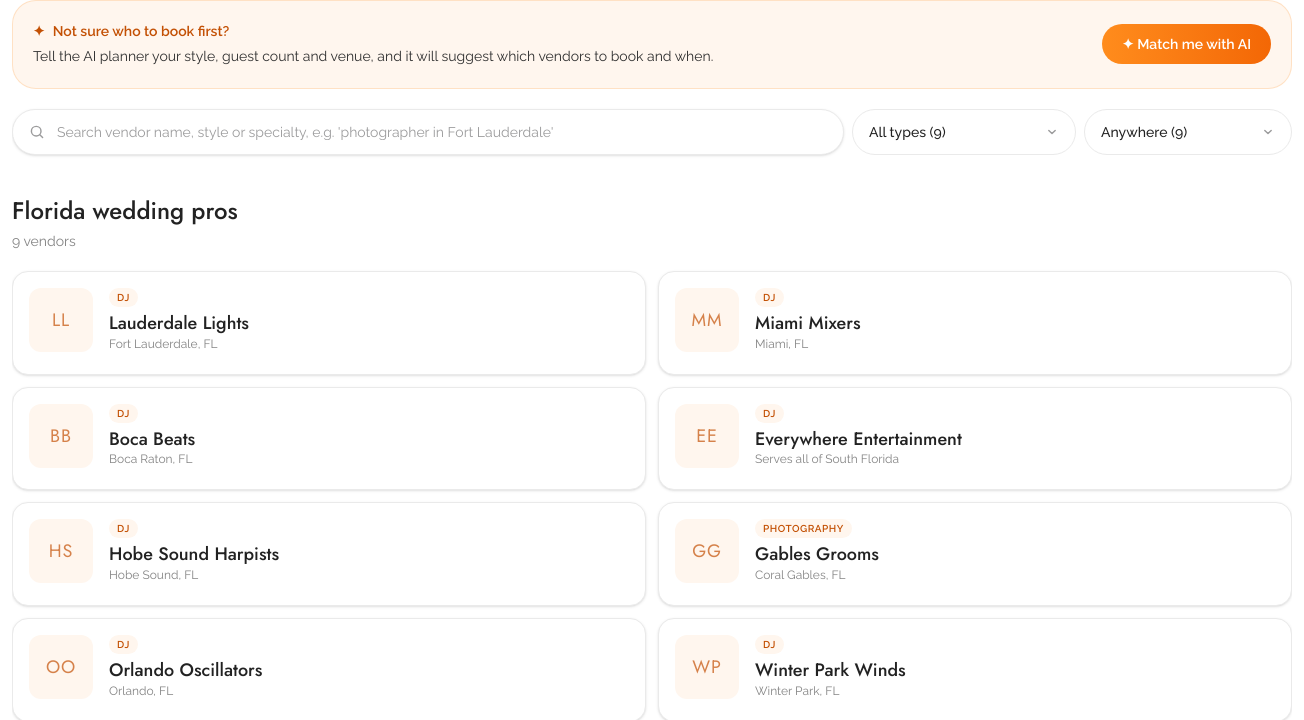
Test: VendorDirectoryList metro and area filters › drops the area when the metro changes
This screenshot has width=1304, height=720.
Select "South Florida (6)" in the dropdown named "Metro": (1188, 132) [1084, 109, 1292, 155]
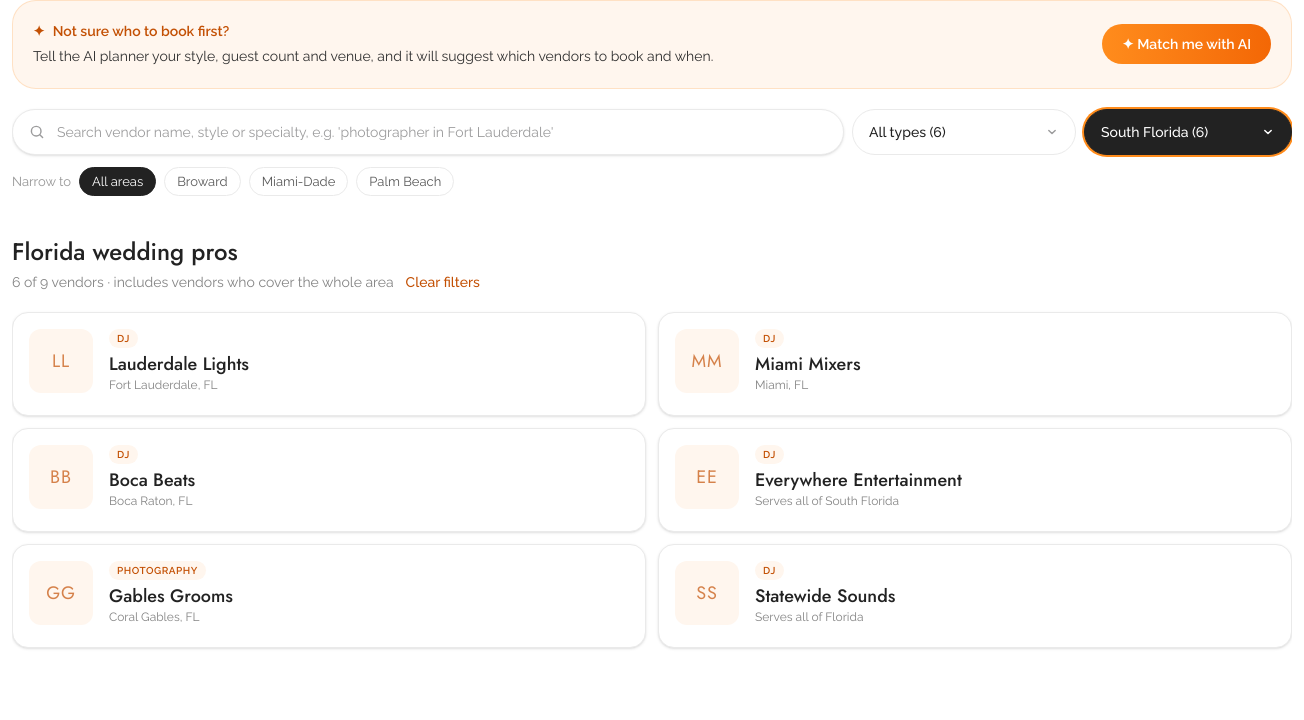
Click the button "Broward": (202, 182) [164, 167, 241, 196]
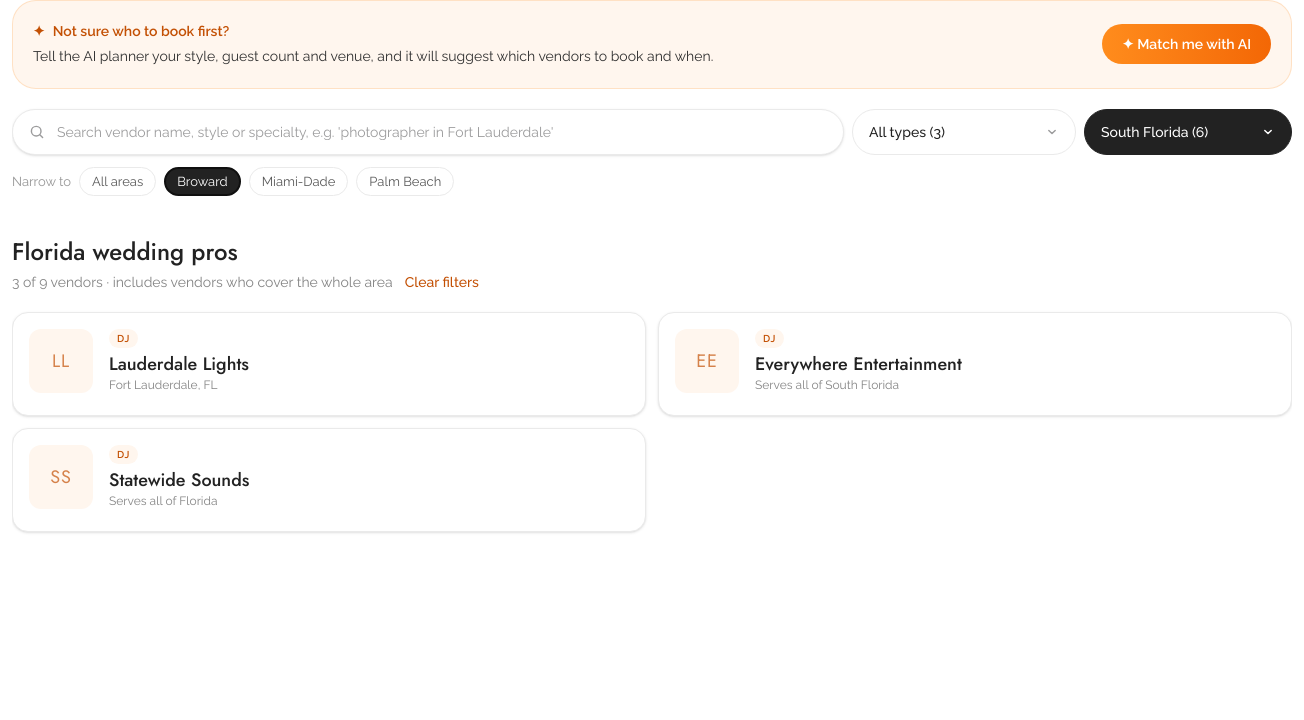
Now the link "Orlando Oscillators" does not show "Orlando Oscillators"
Select "Orlando (3)" in the dropdown named "Metro": (1188, 132) [1084, 109, 1292, 155]
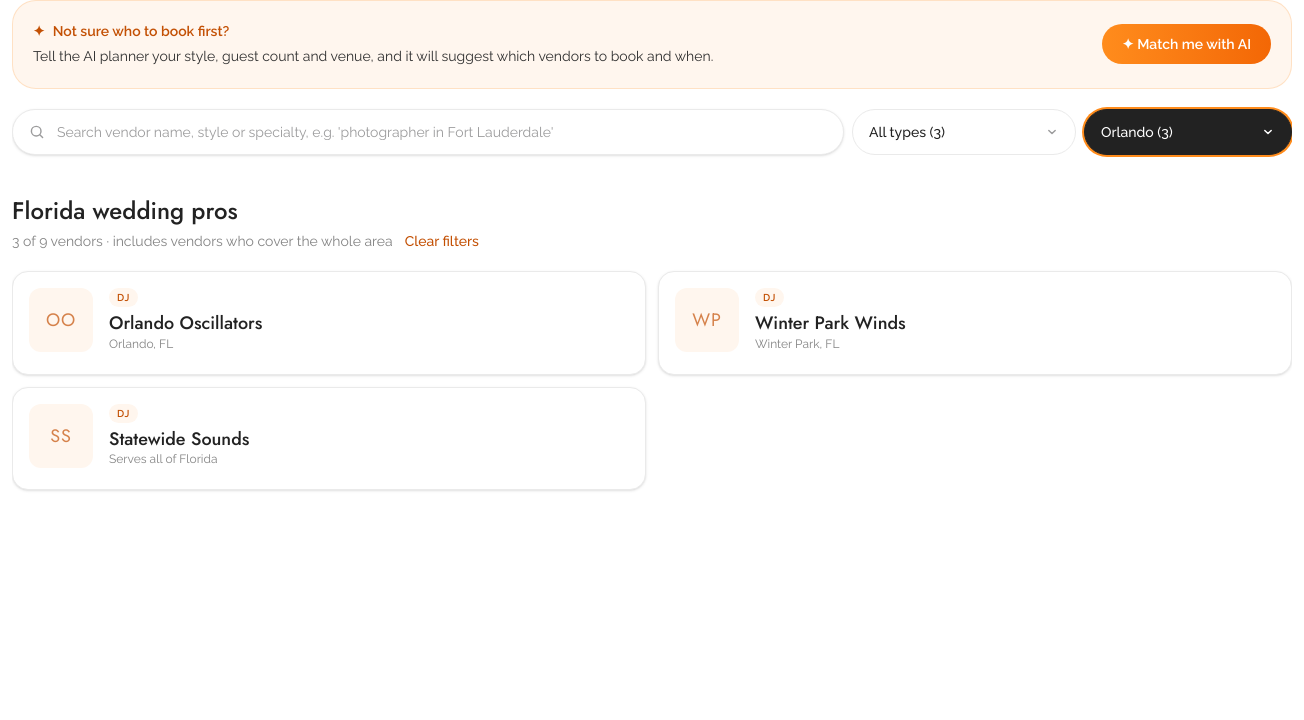
Now the heading "Orlando Oscillators" is shown, box [109, 310, 262, 336]
